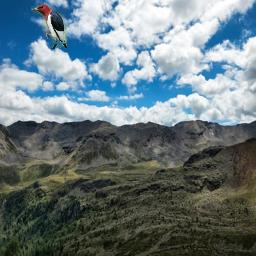Woodpecker: (31, 4, 67, 49)
